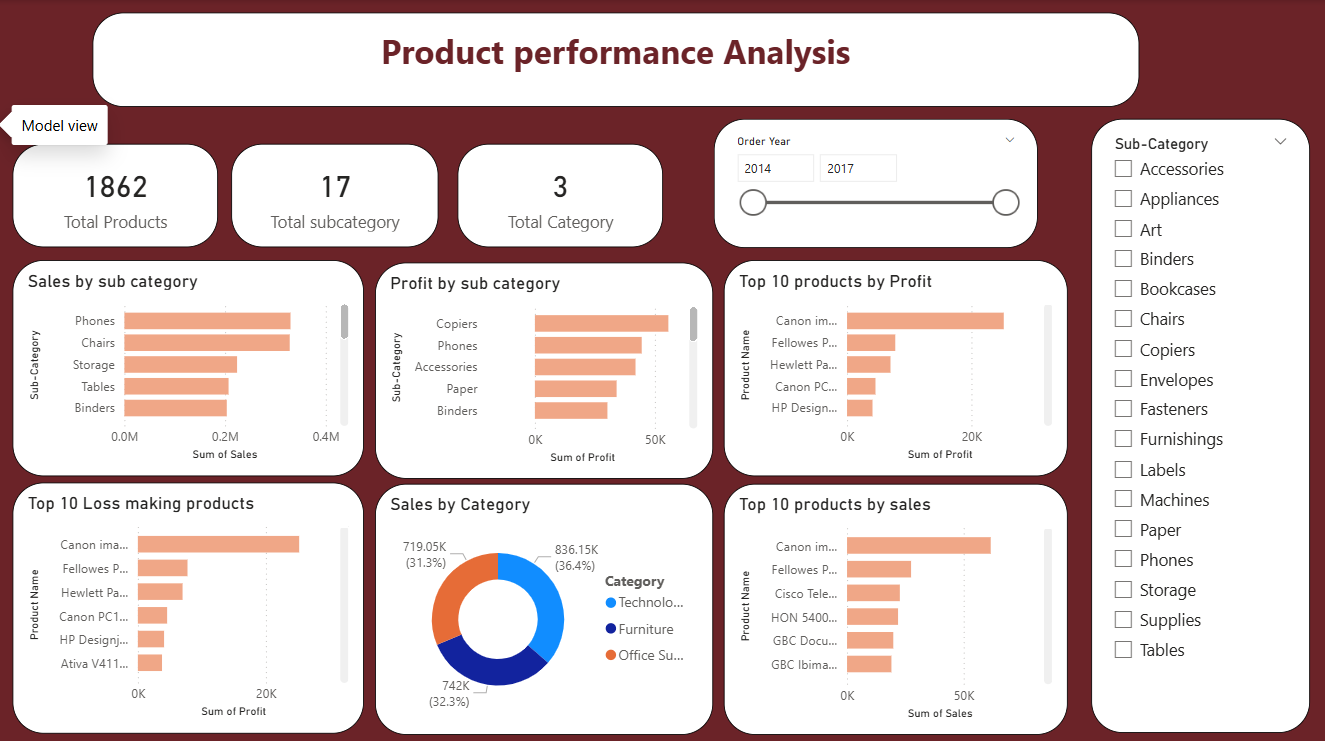

Layout of this report page (visuals, bound fields, positions):
{"tool":"powerbi","page":{"name":"Product Perfomance Analysis","canvas":[1280,720],"ordinal":1},"visuals":[{"type":"card","fields":{"Values":["superstore.Total Products"]},"box":[11.6,139.1,198.6,100],"z":0},{"type":"card","fields":{"Values":["superstore.Total subcategory"]},"box":[223.2,139.1,200,100],"z":1},{"type":"card","fields":{"Values":["superstore.Total Category"]},"box":[442,139.1,198.6,100],"z":2},{"type":"clusteredBarChart","title":"Sales by sub category","fields":{"Category":["superstore.Sub-Category"],"Y":["Sum(superstore.Sales)"]},"box":[11.6,250.7,339.1,208.7],"z":3},{"type":"clusteredBarChart","title":"Top 10 products by sales","fields":{"Category":["superstore.Product Name"],"Y":["Sum(superstore.Sales)"]},"box":[698.6,466.7,331.9,242],"z":4},{"type":"clusteredBarChart","title":"Profit by sub category","fields":{"Category":["superstore.Sub-Category"],"Y":["Sum(superstore.Profit)"]},"box":[362.3,253.6,326.1,208.7],"z":5},{"type":"clusteredBarChart","title":"Top 10 products by Profit","fields":{"Category":["superstore.Product Name"],"Y":["Sum(superstore.Profit)"]},"box":[698.6,250.7,331.9,208.7],"z":6},{"type":"clusteredBarChart","title":"Top 10 Loss making products","fields":{"Category":["superstore.Product Name"],"Y":["Sum(superstore.Profit)"]},"box":[11.6,465.2,339.1,242],"z":7},{"type":"donutChart","title":"Sales by Category","fields":{"Category":["superstore.Category"],"Y":["Sum(superstore.Sales)"]},"box":[362.3,466.7,326.1,242],"z":8},{"type":"slicer","fields":{"Values":["superstore.Sub-Category"]},"box":[1053.6,114.5,211.6,592.8],"z":9},{"type":"slicer","fields":{"Values":["superstore.Order Year"]},"box":[688.4,114.5,313,124.6],"z":10},{"type":"textbox","box":[89.9,11.6,1010.1,91.3],"z":11}]}

Visuals, with their boxes in screenshot pixels (x1, y1, x2, y2):
card - superstore.Total Products: l=29, t=145, r=231, b=246
card - superstore.Total subcategory: l=244, t=145, r=447, b=246
card - superstore.Total Category: l=466, t=145, r=668, b=246
"Sales by sub category" clusteredBarChart: l=29, t=258, r=374, b=470
"Top 10 products by sales" clusteredBarChart: l=727, t=478, r=1064, b=724
"Profit by sub category" clusteredBarChart: l=385, t=261, r=717, b=473
"Top 10 products by Profit" clusteredBarChart: l=727, t=258, r=1064, b=470
"Top 10 Loss making products" clusteredBarChart: l=29, t=476, r=374, b=722
"Sales by Category" donutChart: l=385, t=478, r=717, b=724
slicer - superstore.Sub-Category: l=1088, t=120, r=1303, b=722
slicer - superstore.Order Year: l=717, t=120, r=1035, b=246
textbox: l=109, t=15, r=1135, b=108
